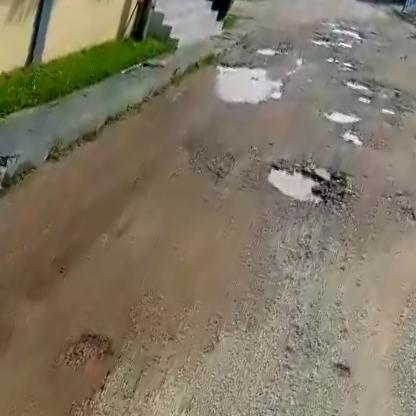pothole: (201, 48, 287, 116), (260, 147, 346, 212), (56, 326, 123, 405), (343, 75, 383, 101), (324, 108, 359, 134), (336, 128, 366, 150)
